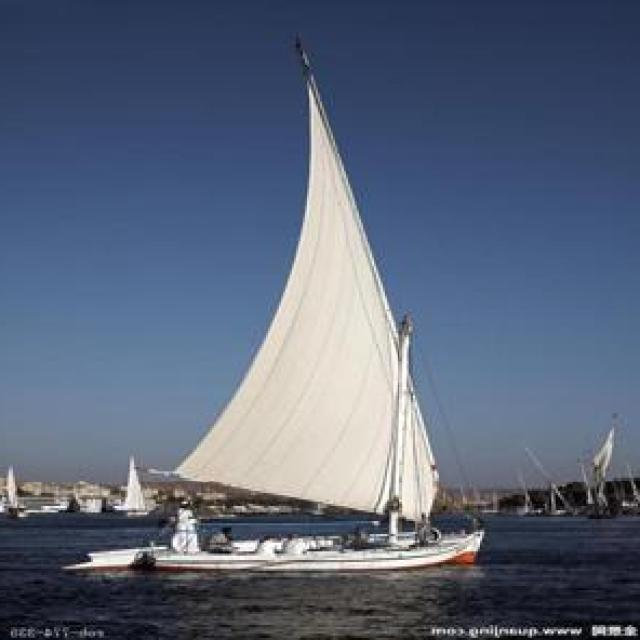sailboat: (119, 28, 489, 567), (119, 446, 160, 516), (1, 463, 32, 519)
